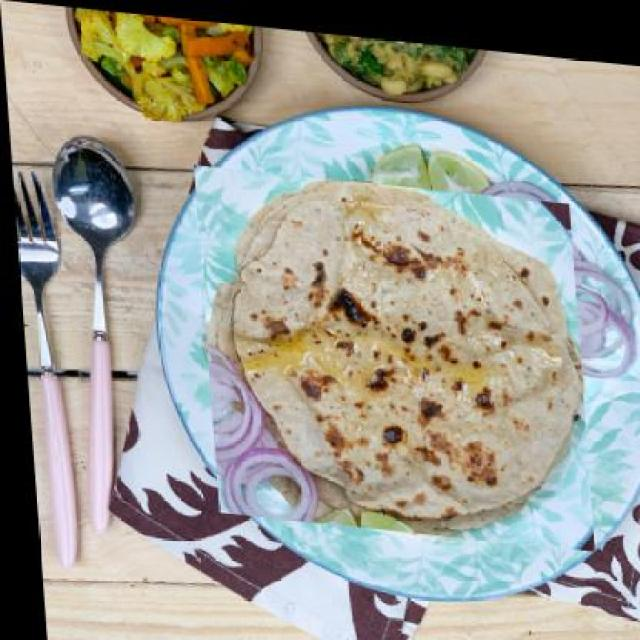chapati: (189, 159, 589, 541)
